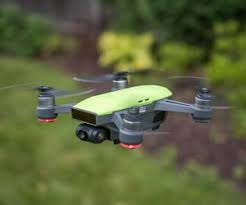Drone: (9, 46, 232, 170)
